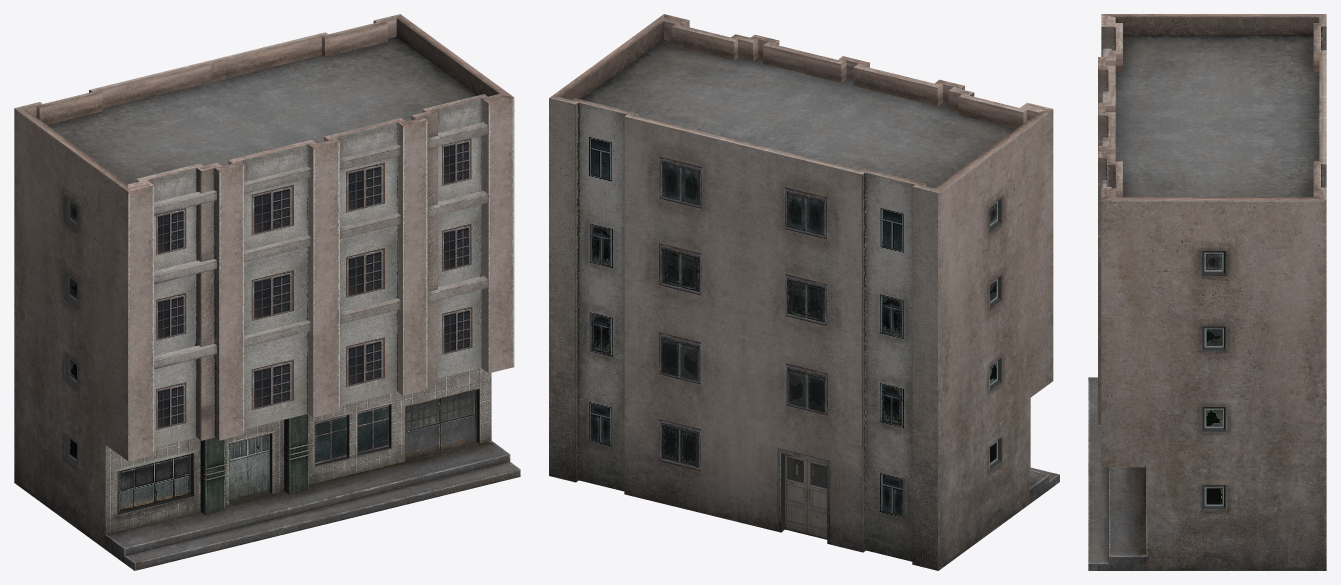
Rendered from buildings_08.FBX.
3 renders of one model, left to right at view 1: azimuth 30°, elevation 25°; view 2: azimuth 150°, elevation 25°; view 3: azimuth 270°, elevation 25°, orthographic.
Visible parts, largest first — view 1: Object001; view 2: Object001; view 3: Object001.
Boxes of the visible parts, x1=… form: Object001: x1=14, y1=14, x2=520, y2=570; Object001: x1=549, y1=14, x2=1059, y2=570; Object001: x1=1088, y1=14, x2=1326, y2=570.
Bounding box in the file's own units: 1348 × 728 × 1250.
Materials: 1 (1 with a texture image).
